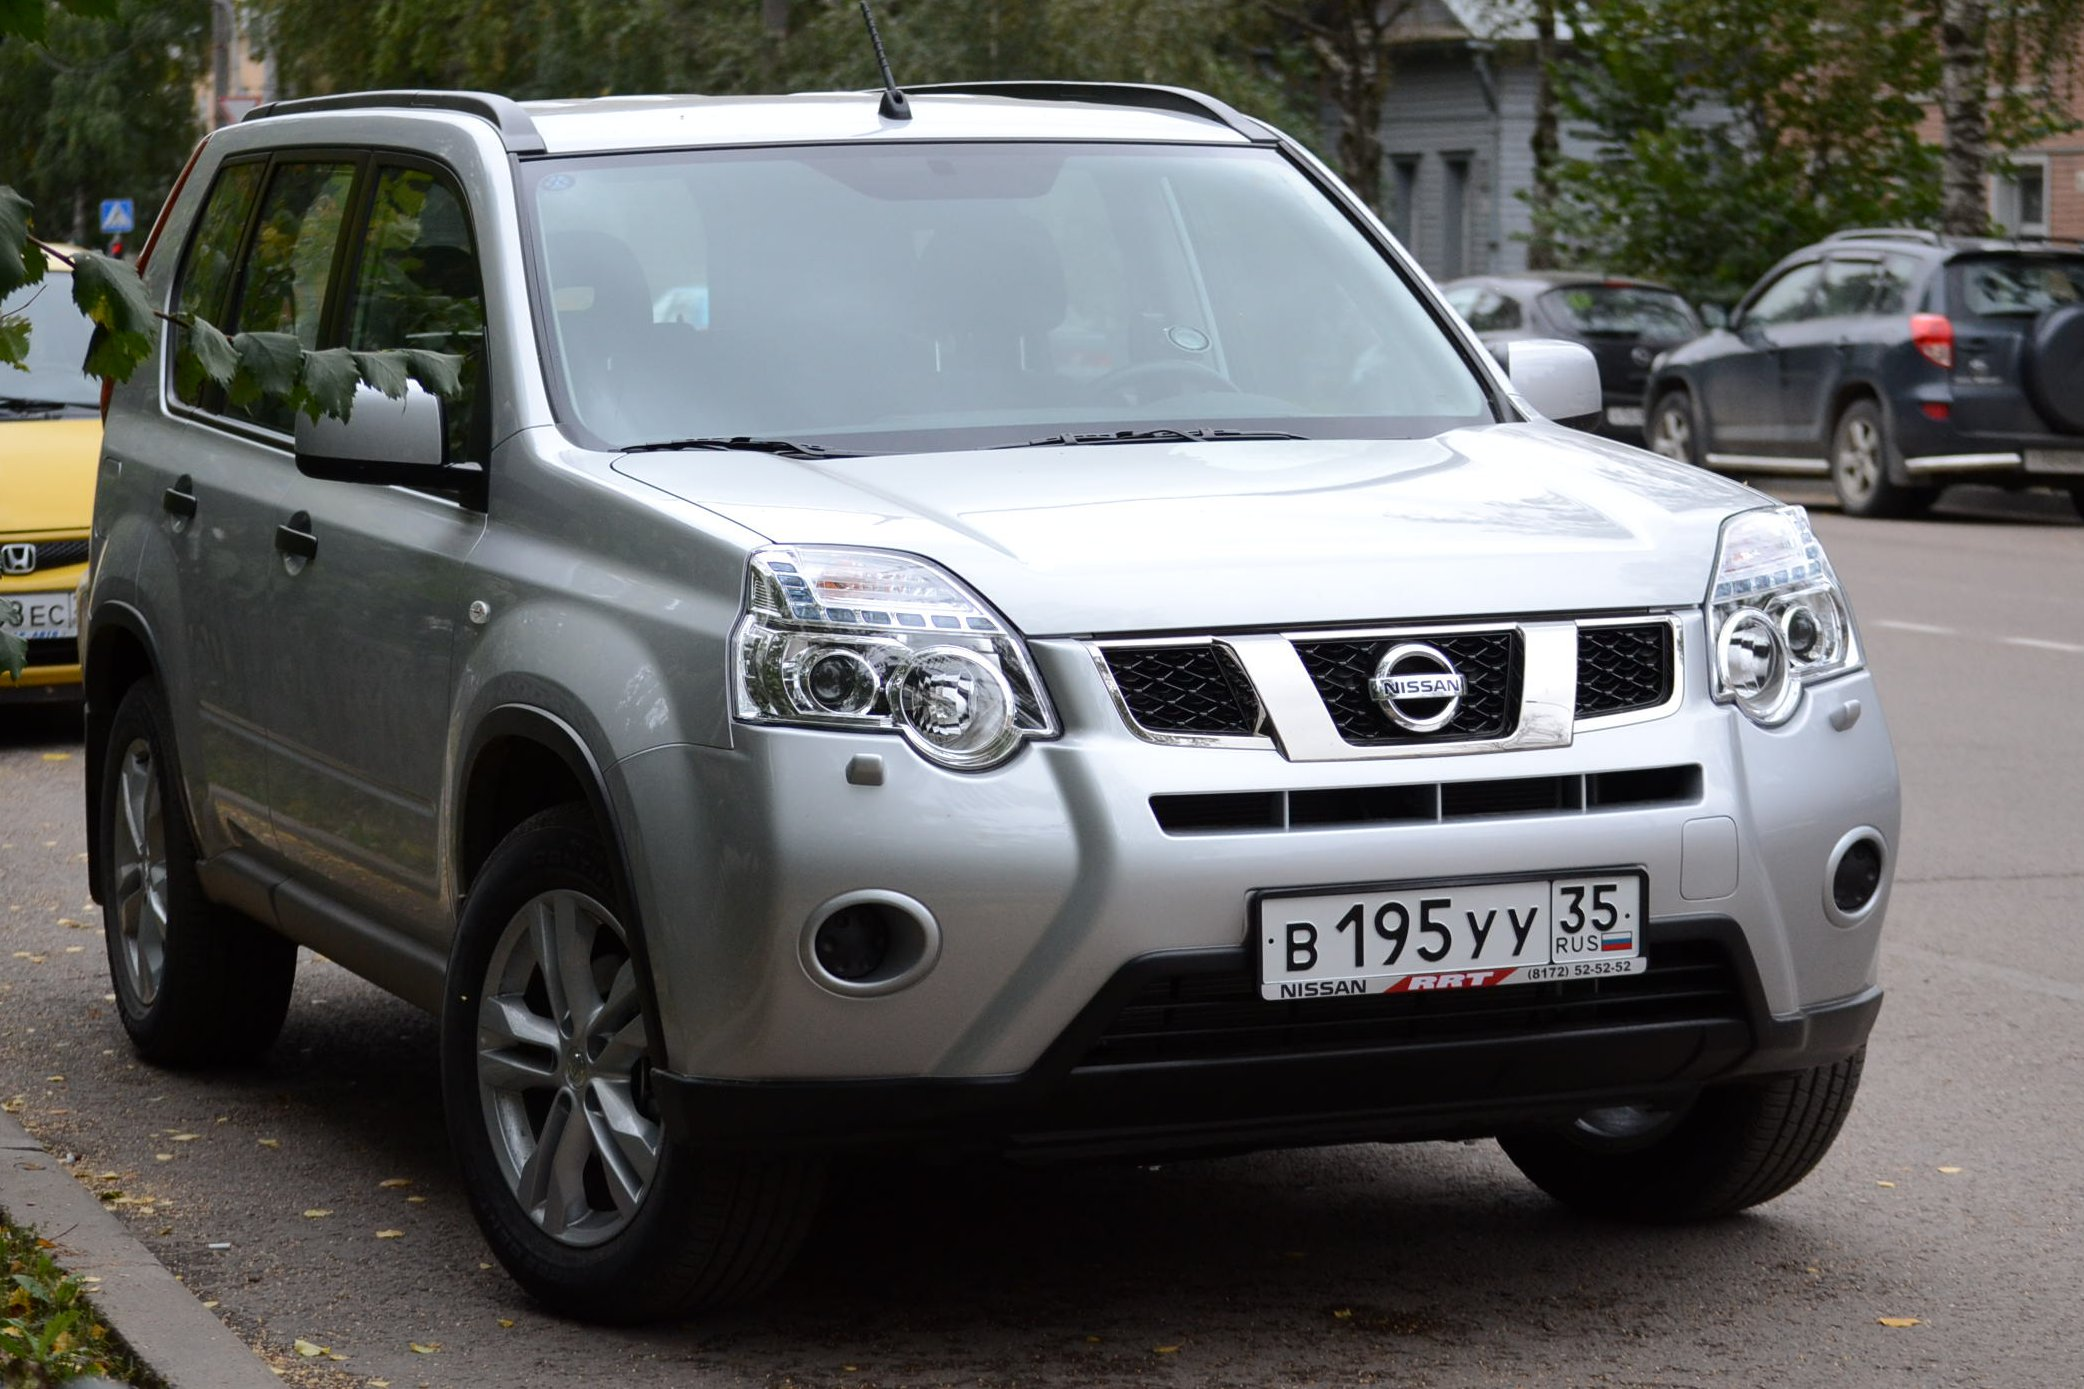pickup: (76, 88, 1915, 1333)
